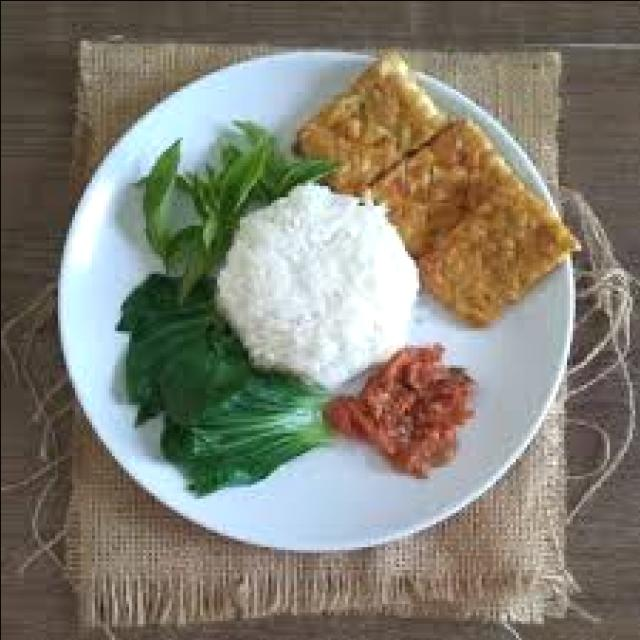nasi: (210, 182, 421, 393)
tempe goreng: (412, 179, 575, 327), (296, 57, 449, 196), (375, 119, 498, 262)
